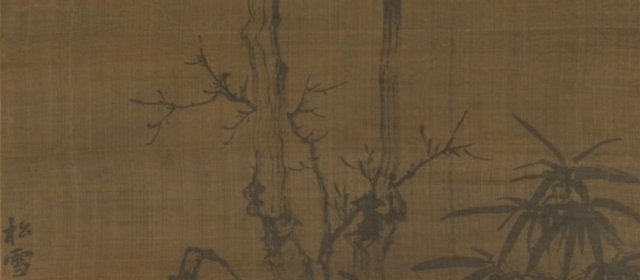bamboo: (474, 111, 635, 280)
tree: (149, 40, 455, 280)
